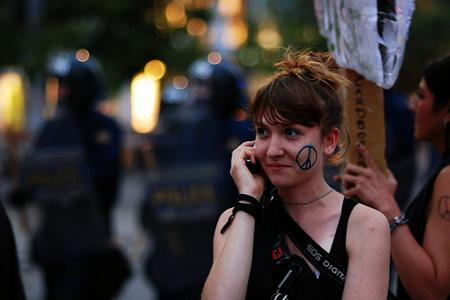person: (200, 51, 393, 300)
